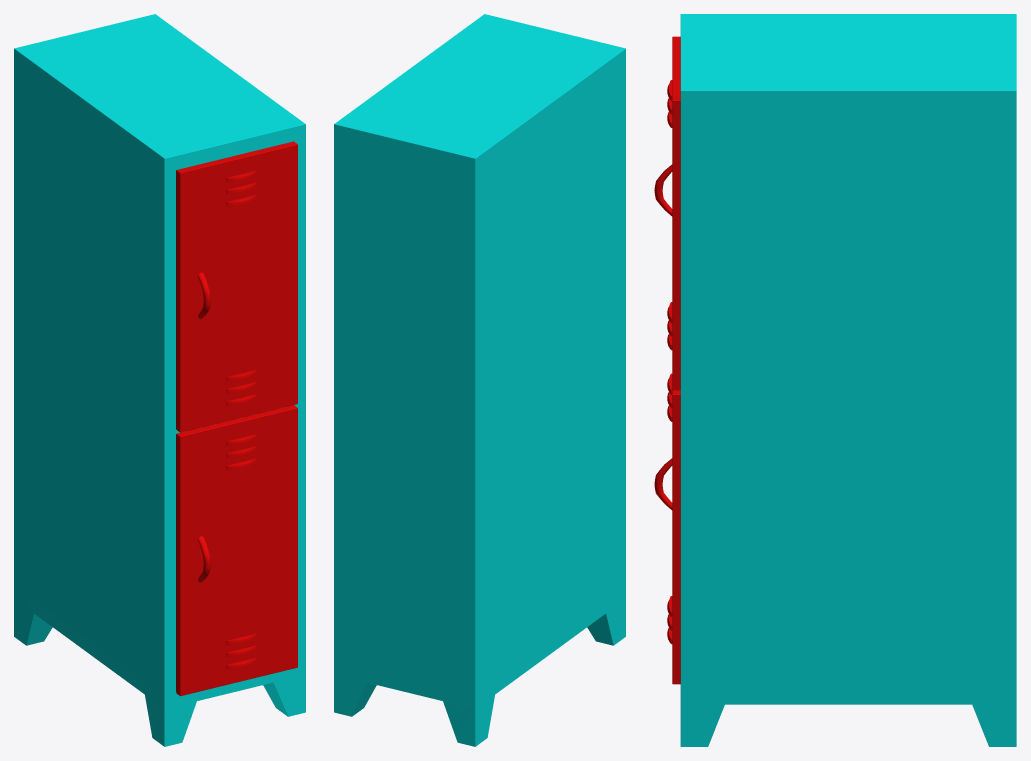
File: 3D_Locker_Metal.fbx
The picture shows the model from 3 angles, left to right: view 1: azimuth 30°, elevation 25°; view 2: azimuth 150°, elevation 25°; view 3: azimuth 270°, elevation 25°; orthographic projection. The views are drawn at different scales.
Parts seen in each view (by area): view 1: Locker; view 2: Locker; view 3: Locker.
Boxes of the visible parts, left/top/right/bottom form: Locker: left=14, top=14, right=305, bottom=746; Locker: left=334, top=14, right=625, bottom=746; Locker: left=654, top=14, right=1016, bottom=746.
Size of the model in its own units: 45.08 by 179 by 89.63.
